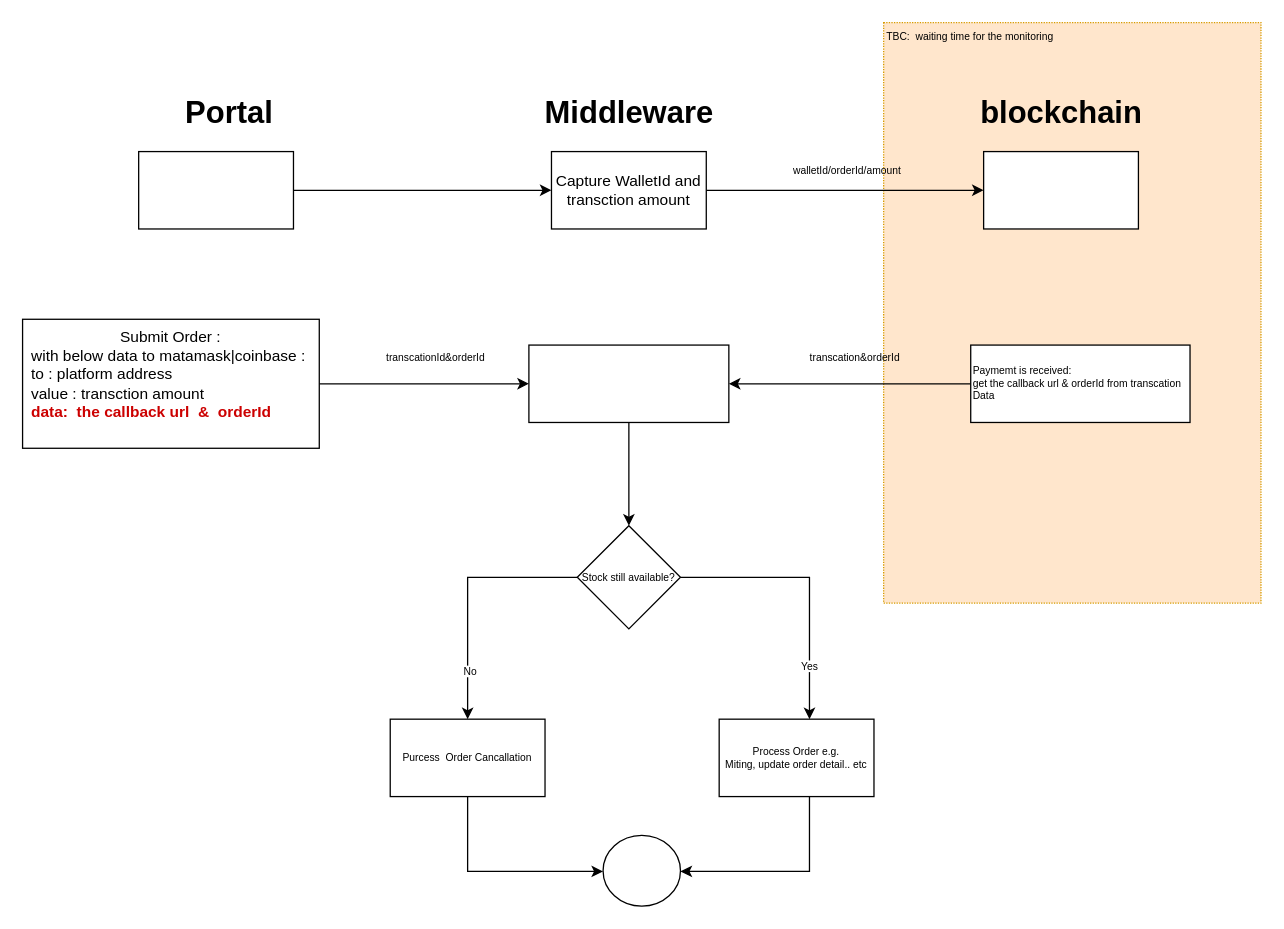
The diagram is 1284 pixels wide and 929 high, and some of its shapes have lost their labels. The shapes that lost their labels are listed below. From the top down, each one's centre as x and y in pixels, then its label:
At (215,189): "Checkout".
At (1060,189): "API".
At (628,383): "Order Payment received".
At (641,870): "end".
